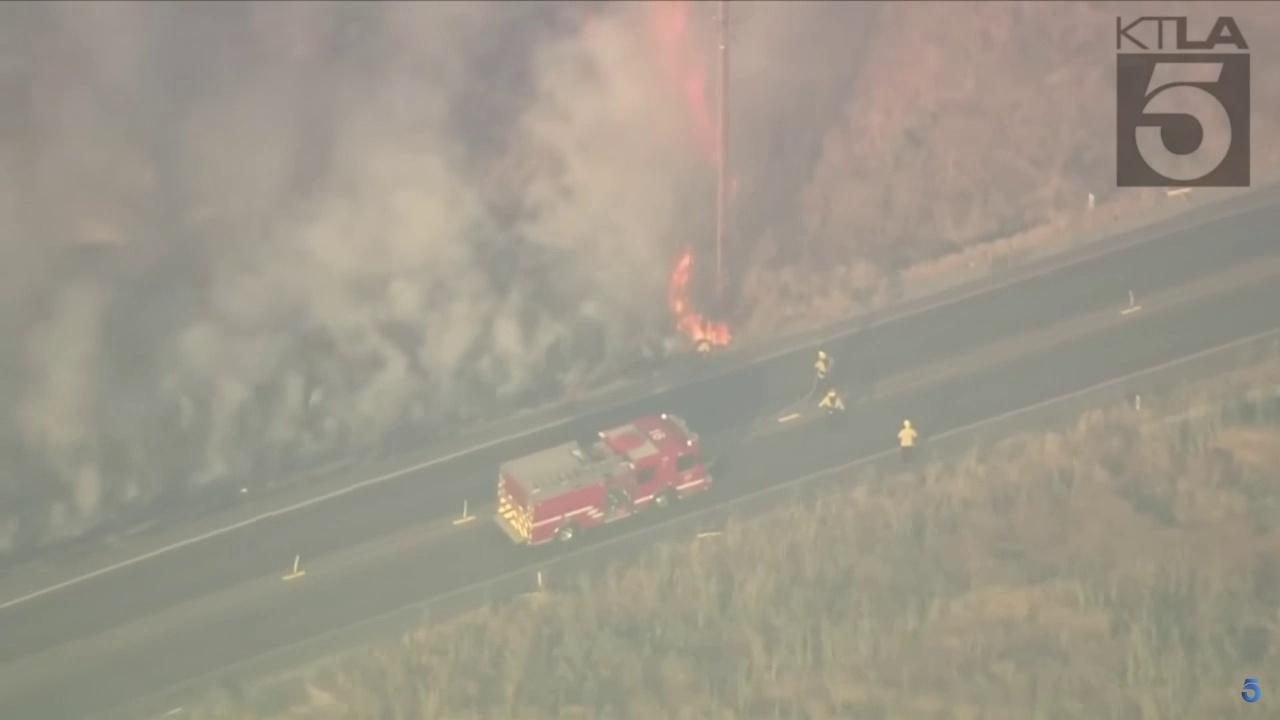fire: (653, 0, 717, 159), (665, 249, 732, 354)
smoke: (0, 0, 851, 551)
